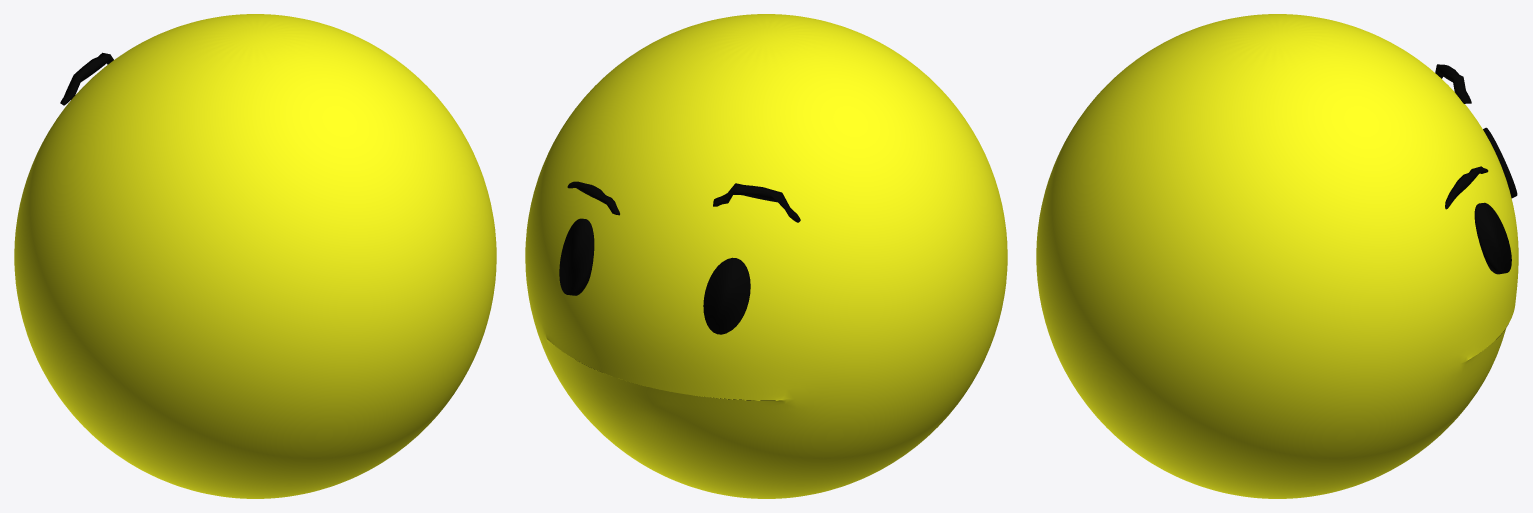
File: [4] rightBrow.obj
3 views of the same model, side by side, from view 1: azimuth 30°, elevation 25°; view 2: azimuth 150°, elevation 25°; view 3: azimuth 270°, elevation 25° (orthographic).
Visible parts, largest first — view 1: head_Sphere.002, rightEyebrow_Cylinder.005; view 2: head_Sphere.002, rightEye_Cylinder.001, leftEye_Cylinder.002, rightEyebrow_Cylinder.005, leftEyebrow_Cylinder.003; view 3: head_Sphere.002, leftEye_Cylinder.002, rightEyebrow_Cylinder.005, leftEyebrow_Cylinder.003.
Part boxes in pixels (<box>): head_Sphere.002: <box>14,14,496,498</box>; rightEyebrow_Cylinder.005: <box>60,52,113,105</box>; head_Sphere.002: <box>525,14,1007,498</box>; rightEye_Cylinder.001: <box>703,257,750,334</box>; leftEye_Cylinder.002: <box>559,218,594,295</box>; rightEyebrow_Cylinder.005: <box>713,183,800,222</box>; leftEyebrow_Cylinder.003: <box>567,181,619,215</box>; head_Sphere.002: <box>1036,14,1518,498</box>; leftEye_Cylinder.002: <box>1474,202,1511,274</box>; rightEyebrow_Cylinder.005: <box>1435,64,1471,103</box>; leftEyebrow_Cylinder.003: <box>1445,166,1488,209</box>.
Bounding box in the file's own units: 3.65 × 3.69 × 3.65.
